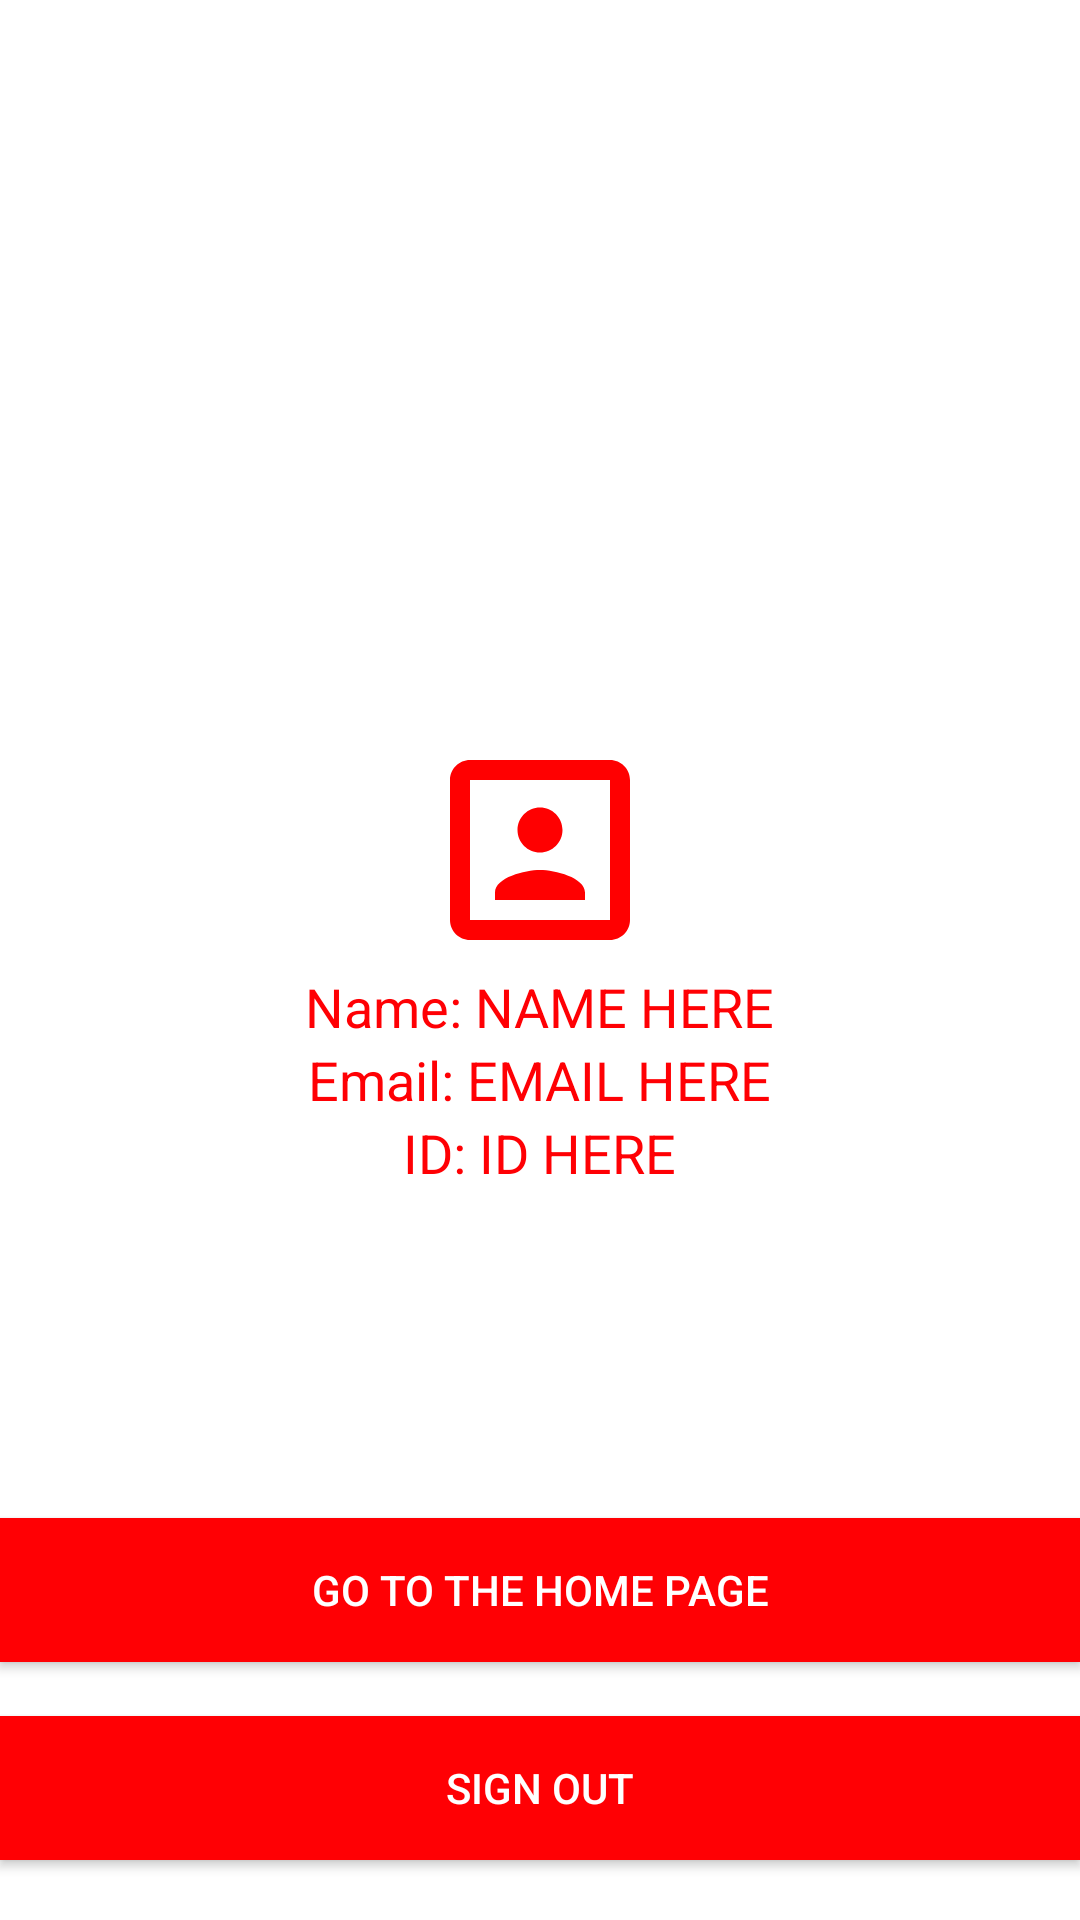

Icons on this 1080 x 1920 Android screen, each with its box as (x1,y1,x2,y2):
portraitman: (450,760,630,940)
